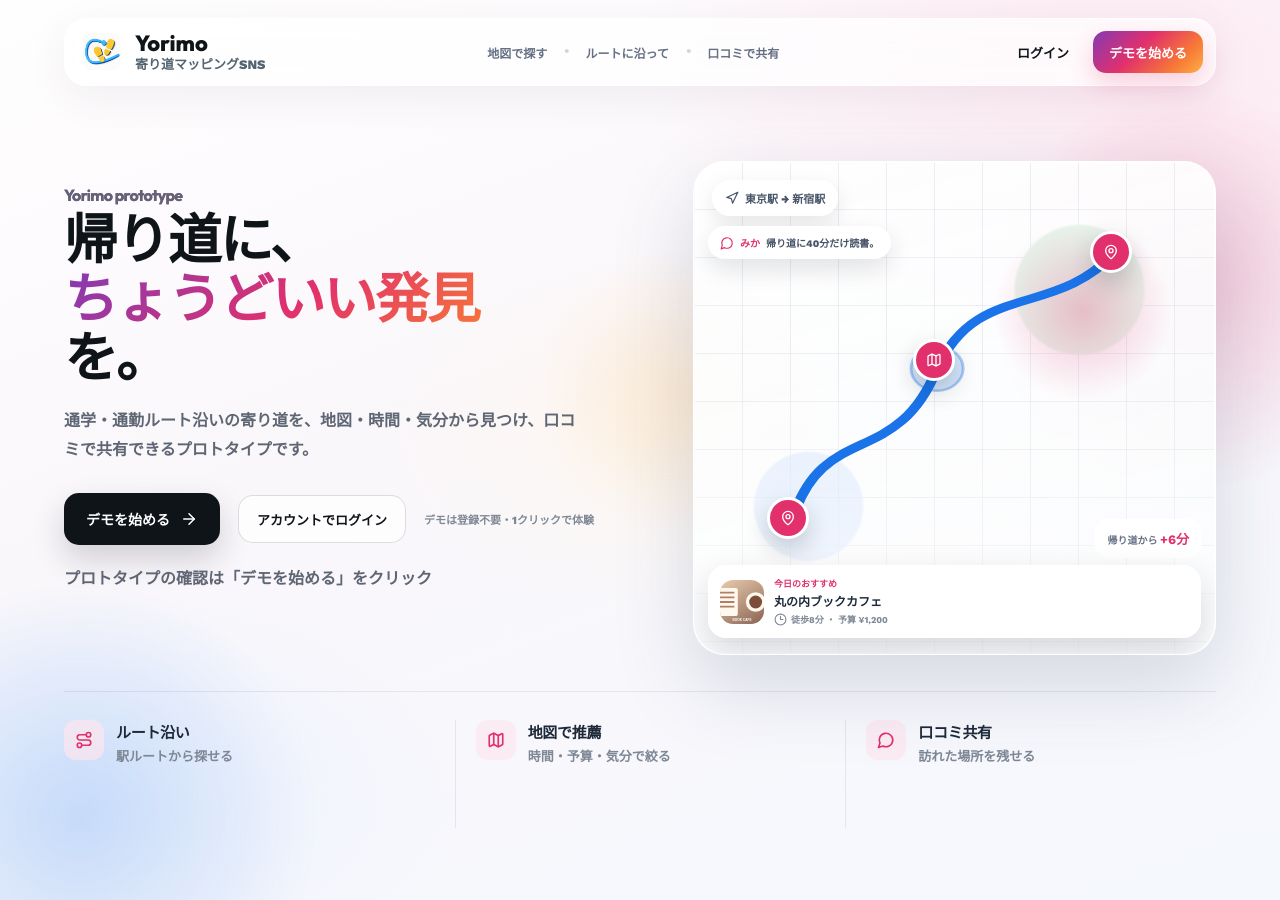
Scenario: Yorimo frontend › starts the shared demo with one click
Click the button "デモを始める" in the row of "ルートに沿って". click: (1148, 52)
box: left=1093, top=31, right=1203, bottom=73
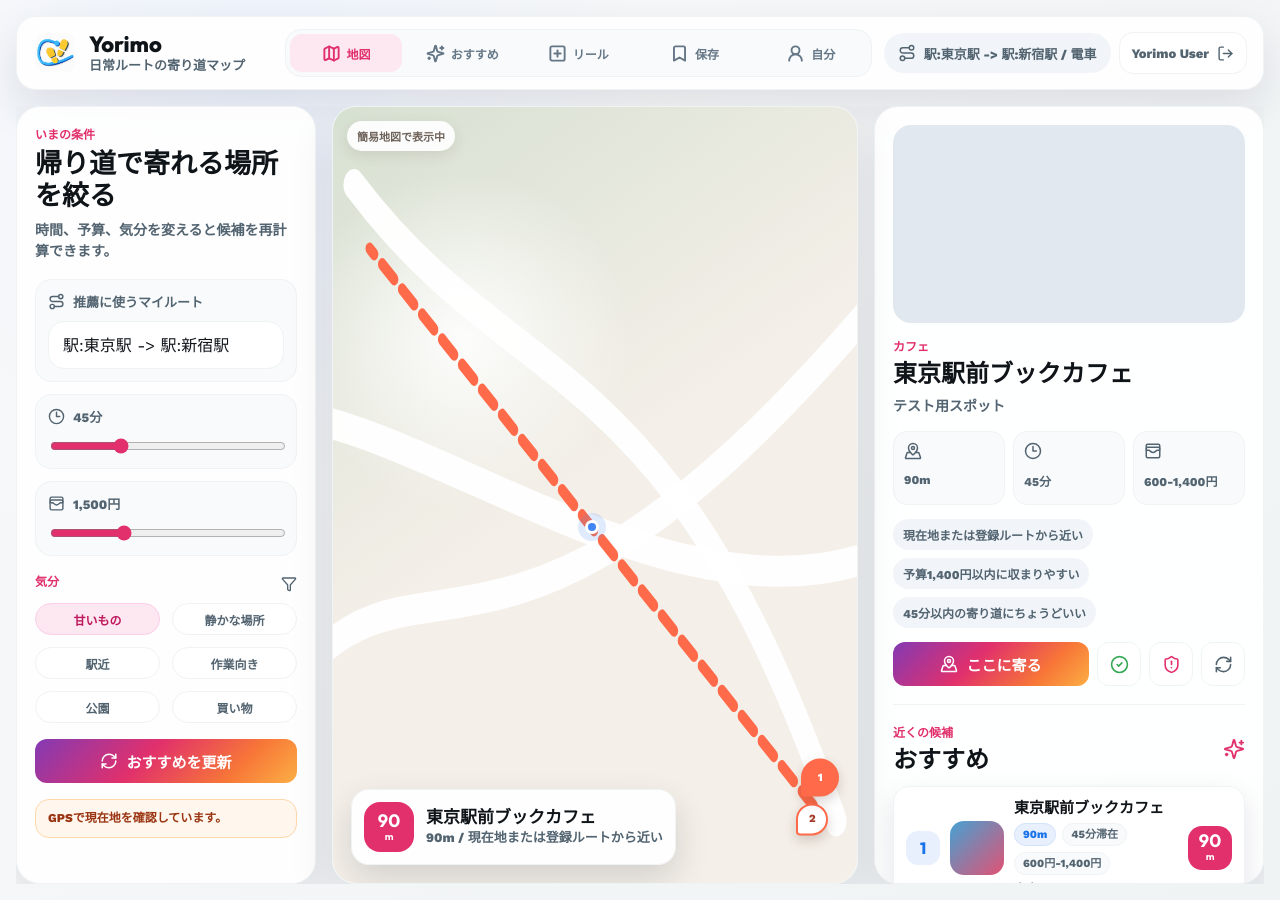
Check: the element with test id "desktop-experience" is shown
